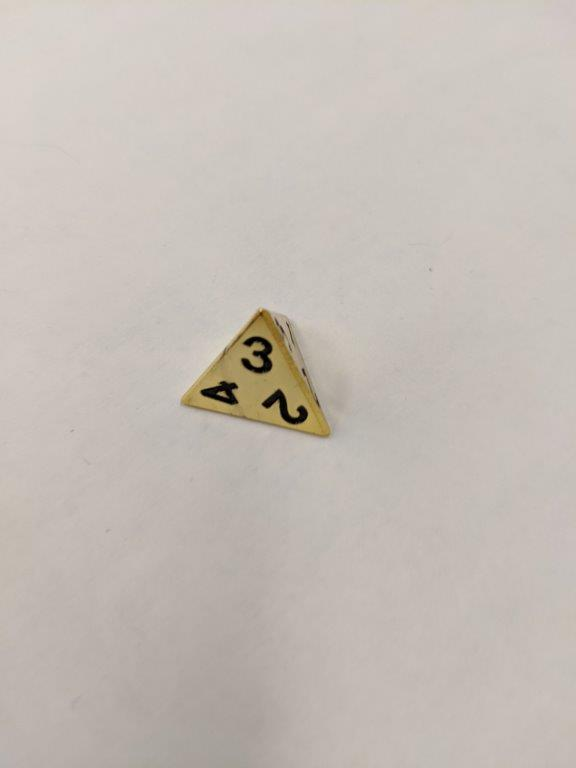d4-3: (179, 305, 343, 452)
